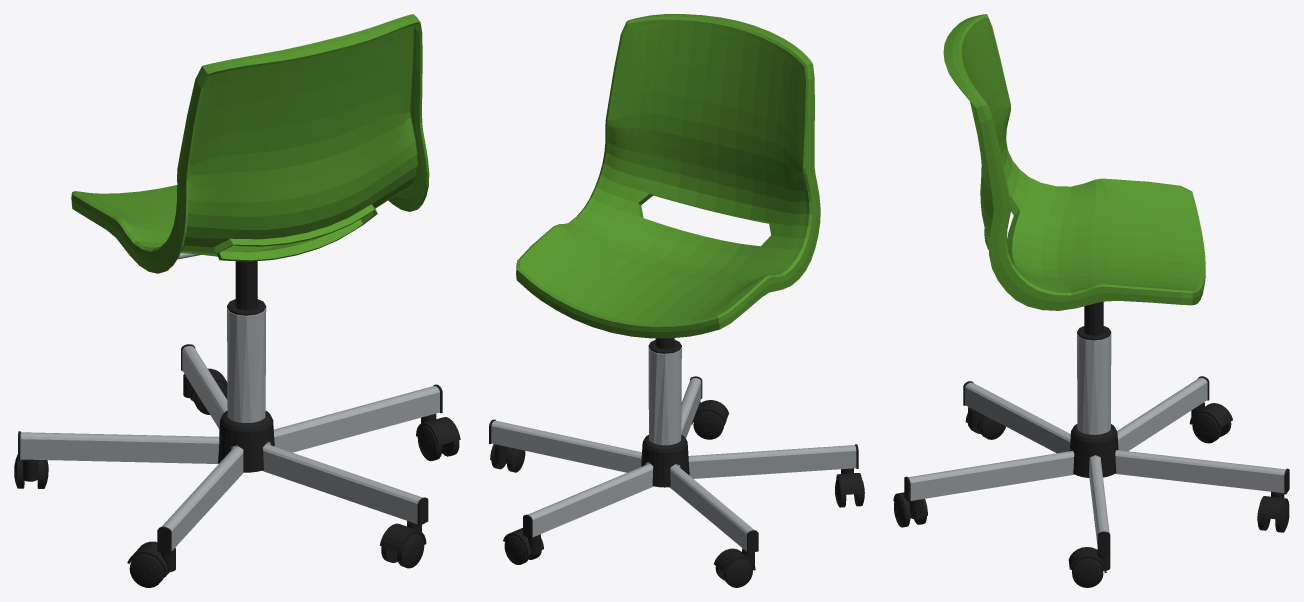
3 renders of one model, left to right at view 1: azimuth 30°, elevation 25°; view 2: azimuth 150°, elevation 25°; view 3: azimuth 270°, elevation 25°, orthographic. The views are drawn at different scales.
Parts seen in each view (by area): view 1: Mesh2 Group2 SNILLE_IKEA1 Model, Mesh8 Group6 SNILLE_IKEA1 Model, Mesh7 Group5 SNILLE_IKEA1 Model, Mesh1 Group1 SNILLE_IKEA1 Model, Mesh3 Group3 SNILLE_IKEA1 Model, Mesh20 ROULETTE4 SNILLE_IKEA1 Model, Mesh15 ROULETTE3 SNILLE_IKEA1 Model, Mesh12 ROULETTE2 SNILLE_IKEA1 Model, Mesh14 ROULETTE2 SNILLE_IKEA1 Model, Mesh18 ROULETTE4 SNILLE_IKEA1 Model, Mesh16 ROULETTE3 SNILLE_IKEA1 Model, Mesh9 ROULETTE1 SNILLE_IKEA1 Model; view 2: Mesh2 Group2 SNILLE_IKEA1 Model, Mesh8 Group6 SNILLE_IKEA1 Model, Mesh7 Group5 SNILLE_IKEA1 Model, Mesh1 Group1 SNILLE_IKEA1 Model, Mesh13 ROULETTE2 SNILLE_IKEA1 Model, Mesh11 ROULETTE1 SNILLE_IKEA1 Model, Mesh18 ROULETTE4 SNILLE_IKEA1 Model, Mesh9 ROULETTE1 SNILLE_IKEA1 Model, Mesh23 ROULETTE5 SNILLE_IKEA1 Model; view 3: Mesh2 Group2 SNILLE_IKEA1 Model, Mesh8 Group6 SNILLE_IKEA1 Model, Mesh7 Group5 SNILLE_IKEA1 Model, Mesh1 Group1 SNILLE_IKEA1 Model, Mesh3 Group3 SNILLE_IKEA1 Model, Mesh17 ROULETTE3 SNILLE_IKEA1 Model, Mesh10 ROULETTE1 SNILLE_IKEA1 Model, Mesh21 ROULETTE5 SNILLE_IKEA1 Model, Mesh9 ROULETTE1 SNILLE_IKEA1 Model, Mesh15 ROULETTE3 SNILLE_IKEA1 Model.
Boxes of the visible parts, x1,y1,x2,y2 form: Mesh2 Group2 SNILLE_IKEA1 Model: (71,14,429,273); Mesh8 Group6 SNILLE_IKEA1 Model: (18,344,442,553); Mesh7 Group5 SNILLE_IKEA1 Model: (227,308,266,422); Mesh1 Group1 SNILLE_IKEA1 Model: (218,410,274,472); Mesh3 Group3 SNILLE_IKEA1 Model: (227,261,266,315); Mesh20 ROULETTE4 SNILLE_IKEA1 Model: (129,554,164,587); Mesh15 ROULETTE3 SNILLE_IKEA1 Model: (416,413,460,445); Mesh12 ROULETTE2 SNILLE_IKEA1 Model: (379,521,426,552); Mesh14 ROULETTE2 SNILLE_IKEA1 Model: (397,533,424,568); Mesh18 ROULETTE4 SNILLE_IKEA1 Model: (127,541,175,574); Mesh16 ROULETTE3 SNILLE_IKEA1 Model: (417,426,442,461); Mesh9 ROULETTE1 SNILLE_IKEA1 Model: (17,456,43,481); Mesh2 Group2 SNILLE_IKEA1 Model: (516,14,820,338); Mesh8 Group6 SNILLE_IKEA1 Model: (489,376,858,553); Mesh7 Group5 SNILLE_IKEA1 Model: (648,347,681,445); Mesh1 Group1 SNILLE_IKEA1 Model: (641,434,689,487); Mesh13 ROULETTE2 SNILLE_IKEA1 Model: (693,411,724,439); Mesh11 ROULETTE1 SNILLE_IKEA1 Model: (723,558,752,587); Mesh18 ROULETTE4 SNILLE_IKEA1 Model: (836,468,863,494); Mesh9 ROULETTE1 SNILLE_IKEA1 Model: (714,548,755,572); Mesh23 ROULETTE5 SNILLE_IKEA1 Model: (504,535,529,564); Mesh2 Group2 SNILLE_IKEA1 Model: (943,14,1205,310); Mesh8 Group6 SNILLE_IKEA1 Model: (904,376,1289,554); Mesh7 Group5 SNILLE_IKEA1 Model: (1077,334,1111,434); Mesh1 Group1 SNILLE_IKEA1 Model: (1069,424,1118,477); Mesh3 Group3 SNILLE_IKEA1 Model: (1077,301,1111,340); Mesh17 ROULETTE3 SNILLE_IKEA1 Model: (1072,558,1103,587); Mesh10 ROULETTE1 SNILLE_IKEA1 Model: (1192,413,1221,443); Mesh21 ROULETTE5 SNILLE_IKEA1 Model: (1257,491,1289,519); Mesh9 ROULETTE1 SNILLE_IKEA1 Model: (1189,402,1232,428); Mesh15 ROULETTE3 SNILLE_IKEA1 Model: (1068,547,1110,572).
Bounding box in the file's own units: 0.5792 × 0.753 × 0.5969.
